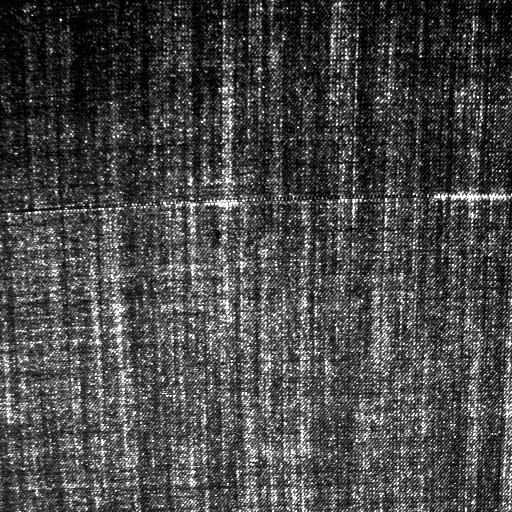fabric_hole: (27, 186, 509, 214)
